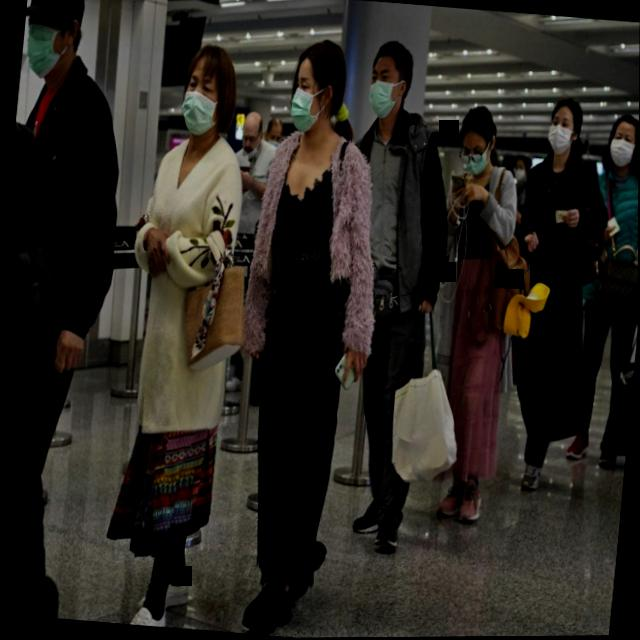Mask: (171, 37, 247, 148), (283, 35, 355, 147), (18, 0, 92, 96), (358, 34, 421, 134), (449, 96, 505, 184), (541, 91, 589, 164), (601, 101, 639, 174), (507, 149, 533, 187)
NO-Mask: (236, 108, 267, 162)
